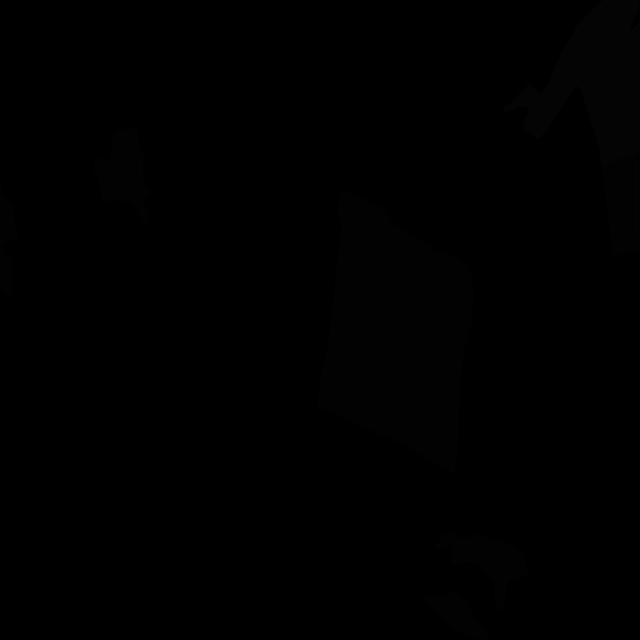cardboard: (316, 191, 474, 475), (435, 533, 528, 611), (92, 127, 151, 229), (602, 150, 640, 256), (420, 589, 488, 640), (0, 180, 18, 295)
soft_plastic: (502, 0, 640, 167)
